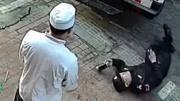Fall-Detected: (94, 25, 174, 94)
